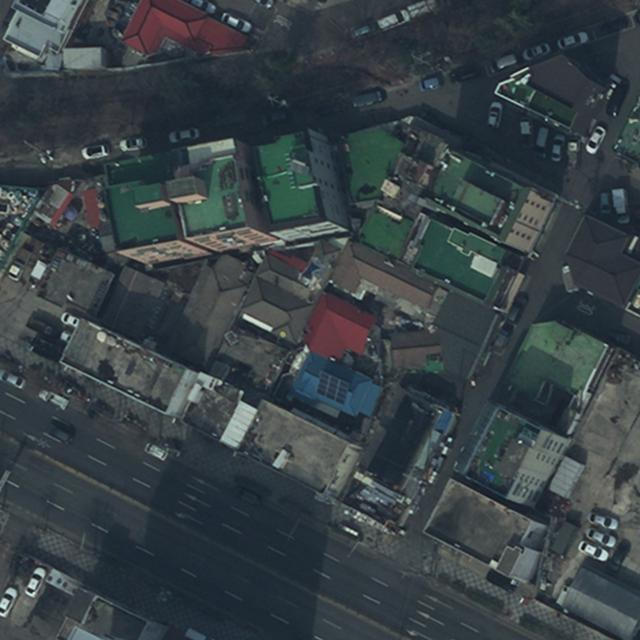panel: (315, 369, 349, 405)
